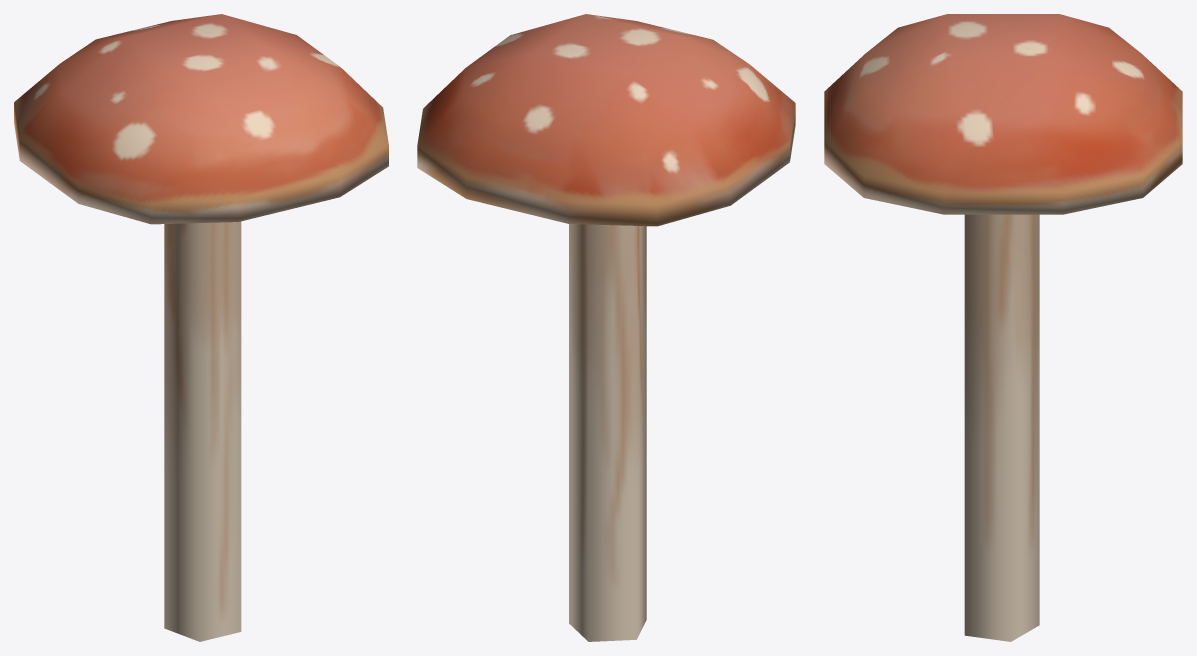
The model's file is hongo2.fbx.
3 renders of one model, left to right at view 1: azimuth 30°, elevation 25°; view 2: azimuth 150°, elevation 25°; view 3: azimuth 270°, elevation 25°, orthographic.
Visible parts, largest first — view 1: HONGO2; view 2: HONGO2; view 3: HONGO2.
Boxes of the visible parts, x1=… form: HONGO2: x1=14, y1=14, x2=388, y2=641; HONGO2: x1=417, y1=14, x2=795, y2=641; HONGO2: x1=824, y1=14, x2=1182, y2=641.
Bounding box in the file's own units: 156 × 283 × 156.
